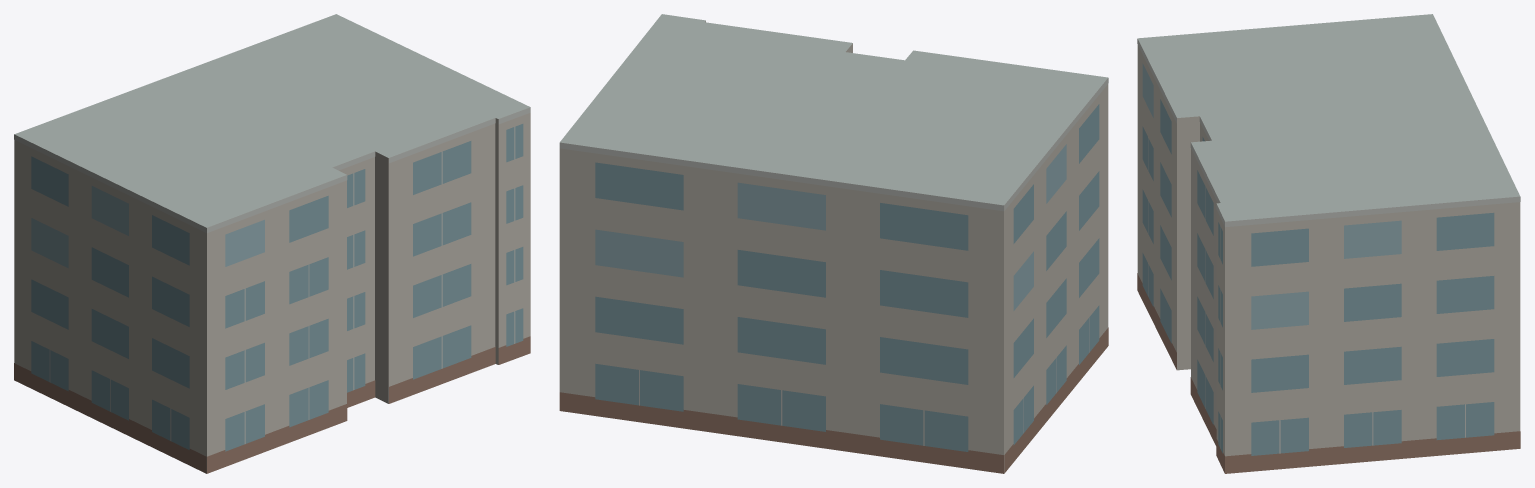
Rendered from survey-upis-32980281.glb.
The picture shows the model from 3 angles, left to right: view 1: azimuth 30°, elevation 25°; view 2: azimuth 150°, elevation 25°; view 3: azimuth 270°, elevation 25°; orthographic projection. The views are drawn at different scales.
Visible parts, largest first — view 1: survey-upis-32980281.tmp; view 2: survey-upis-32980281.tmp; view 3: survey-upis-32980281.tmp.
Part boxes in pixels (box(x1,y1,x2,y2)): survey-upis-32980281.tmp: box(14, 14, 530, 473); survey-upis-32980281.tmp: box(559, 14, 1108, 473); survey-upis-32980281.tmp: box(1137, 14, 1520, 473).
Size of the model in its own units: 19.58 by 11.08 by 15.26.
